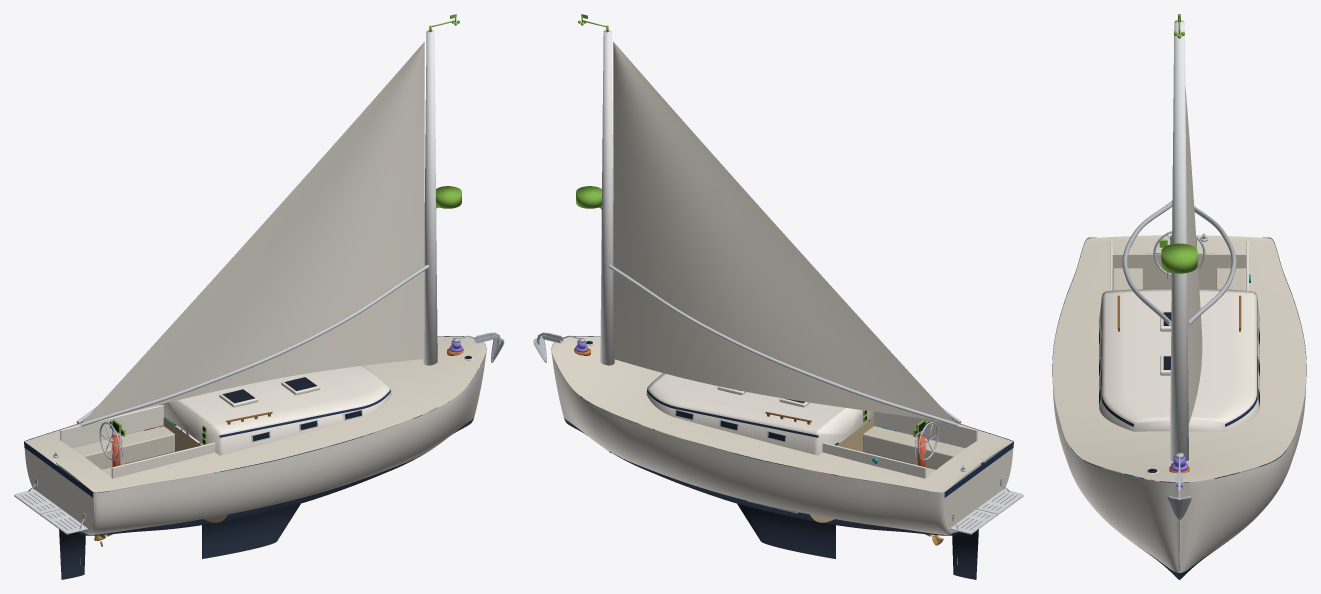
Rendered from nonsuch30.glb.
3 renders of one model, left to right at view 1: azimuth 30°, elevation 25°; view 2: azimuth 150°, elevation 25°; view 3: azimuth 270°, elevation 25°, orthographic. The views are drawn at different scales.
Visible parts, largest first — view 1: Sail, Hull, Deck, Cabin, Mast, Keel, Transom, Cockpit seat, Coaming, Wishbone.003, Coaming.001, Rudder (+1 smaller); view 2: Sail, Hull, Deck, Cabin, Mast, Keel, Transom, Cockpit seat.001, Coaming.001, Wishbone.002, Coaming, Rudder (+1 smaller); view 3: Deck, Cabin, Hull, Mast, Sail, Cockpit aft wall, Radar.001, Wishbone.003, Wishbone.002, Cockpit seat, Cockpit seat.001, Anchor.002.
Part boxes in pixels (bbox=[...]): Sail: bbox=[83, 42, 424, 422]; Hull: bbox=[26, 350, 486, 535]; Deck: bbox=[25, 336, 486, 492]; Cabin: bbox=[159, 365, 391, 455]; Mast: bbox=[423, 30, 437, 414]; Keel: bbox=[202, 503, 300, 558]; Transom: bbox=[24, 448, 93, 532]; Cockpit seat: bbox=[73, 426, 174, 469]; Coaming: bbox=[60, 405, 163, 447]; Wishbone.003: bbox=[80, 264, 429, 426]; Coaming.001: bbox=[111, 442, 215, 478]; Rudder: bbox=[59, 529, 85, 579]; Sail: bbox=[613, 42, 954, 422]; Hull: bbox=[551, 350, 1011, 535]; Deck: bbox=[551, 336, 1012, 492]; Cabin: bbox=[646, 373, 873, 455]; Mast: bbox=[600, 30, 614, 414]; Keel: bbox=[737, 503, 835, 558]; Transom: bbox=[944, 448, 1013, 532]; Cockpit seat.001: bbox=[863, 426, 964, 469]; Coaming.001: bbox=[874, 412, 977, 447]; Wishbone.002: bbox=[608, 264, 957, 426]; Coaming: bbox=[822, 442, 926, 478]; Rudder: bbox=[952, 529, 978, 579]; Deck: bbox=[1052, 235, 1306, 481]; Cabin: bbox=[1099, 288, 1259, 431]; Hull: bbox=[1052, 377, 1306, 579]; Mast: bbox=[1170, 20, 1189, 564]; Sail: bbox=[1185, 86, 1202, 423]; Cockpit aft wall: bbox=[1112, 254, 1246, 288]; Radar.001: bbox=[1161, 243, 1197, 273]; Wishbone.003: bbox=[1122, 201, 1172, 326]; Wishbone.002: bbox=[1187, 206, 1236, 326]; Cockpit seat: bbox=[1216, 268, 1246, 290]; Cockpit seat.001: bbox=[1112, 268, 1142, 290]; Anchor.002: bbox=[1167, 495, 1191, 520].
Size of the model in its own units: 10.09 by 10.04 by 3.62.
